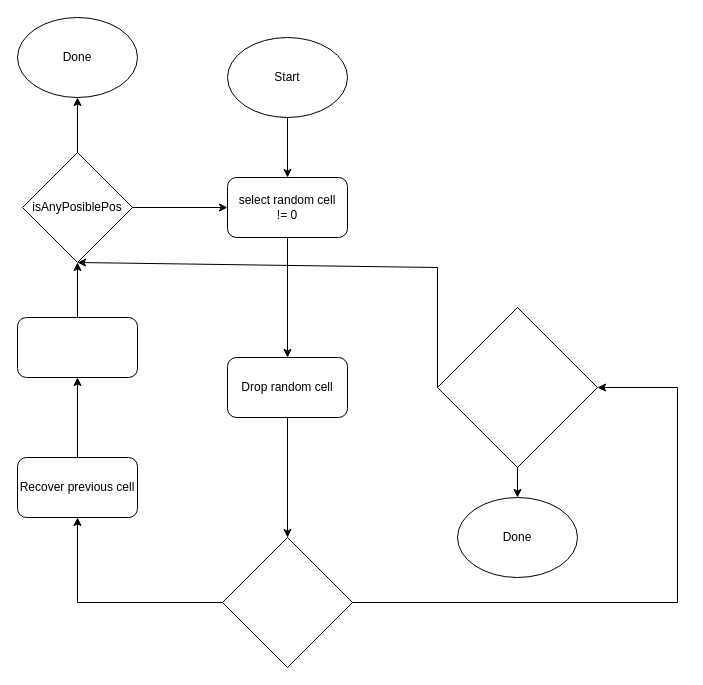
This 703x685 diagram has some shape labels left out. Each missing label, with the centre of its shape:
"isOnlyOneSolution" belongs at pixel 287 602.
"IsReachLimitCellDrop" belongs at pixel 517 387.
"Mark it checked" belongs at pixel 77 347.
